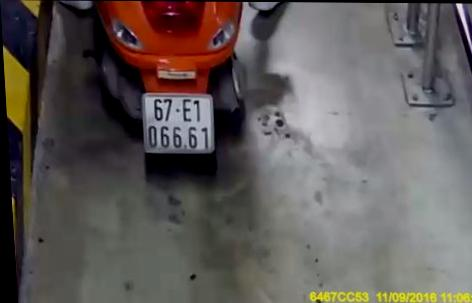License_Plate: (136, 88, 222, 166)
